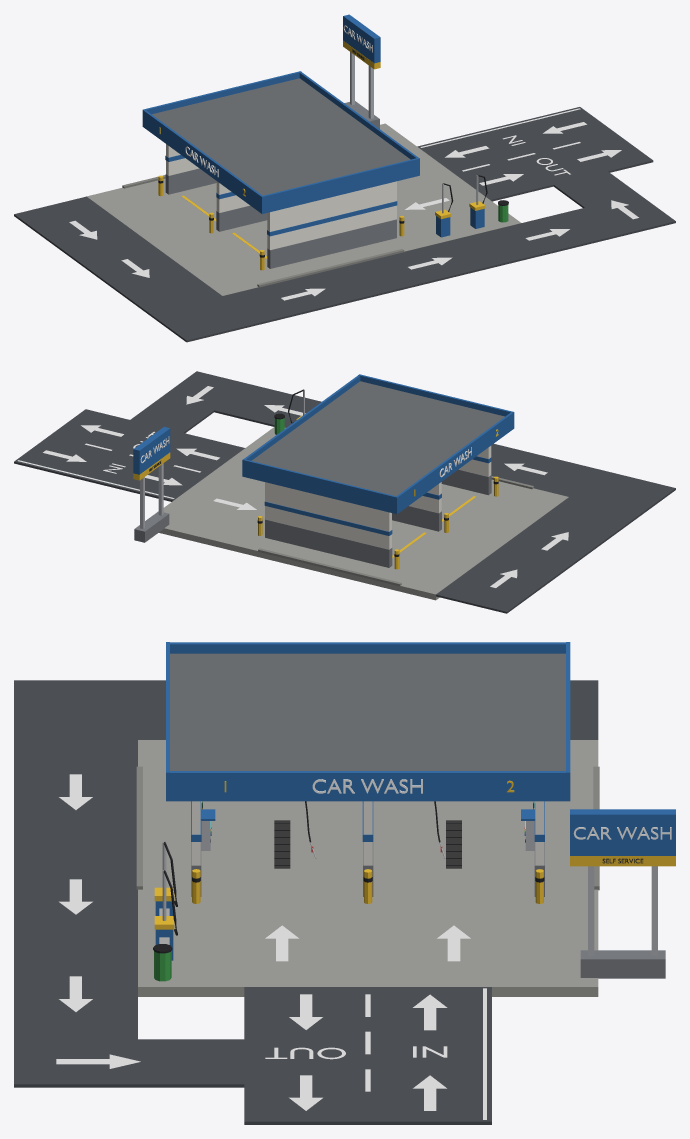
Rendered from PublicCarWash.fbx.
The picture shows the model from 3 angles, top to bottom: view 1: azimuth 30°, elevation 25°; view 2: azimuth 150°, elevation 25°; view 3: azimuth 270°, elevation 25°; orthographic projection. The views are drawn at different scales.
Visible parts, largest first — view 1: Road, Roof, Pad, Walls, Exterior; view 2: Road, Roof, Pad, Walls, Exterior; view 3: Road, Pad, Roof, Exterior, Walls, Equipment, Sign.
Part boxes in pixels (x1,y1,x2,y2): Road: (14,107,675,342); Roof: (142,71,419,213); Pad: (86,123,521,295); Walls: (158,144,404,270); Exterior: (343,14,508,237); Road: (14,371,675,613); Roof: (242,374,514,514); Pad: (159,427,568,600); Walls: (257,446,498,569); Exterior: (133,389,304,542); Road: (14,680,598,1124); Pad: (136,740,599,996); Roof: (166,642,570,801); Exterior: (153,809,675,981); Walls: (191,801,544,903); Equipment: (200,801,535,858); Sign: (224,779,514,793).
Bounding box in the file's own units: 29.5 × 5.35 × 18.69.
